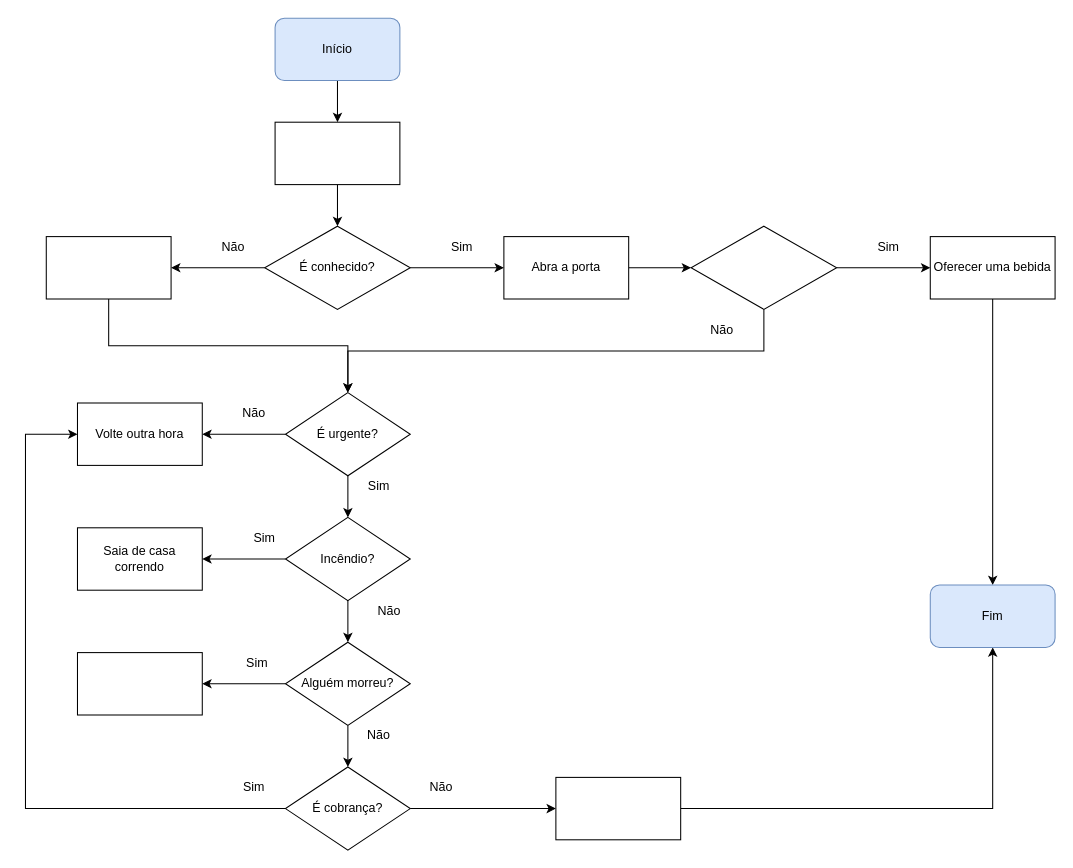
Some shapes in this 1073 by 868 pixel diagram are drawn without their labels. Here are the shapes that lost their labels. From the top down, the box of each, then its label:
(274, 121, 400, 185): Alguém bate na porta de casa
(45, 236, 171, 299): Perguntar o que deseja
(690, 225, 837, 309): Está tudo bem?
(76, 652, 202, 715): Sofrer o luto
(555, 776, 681, 840): Chame a polícia
